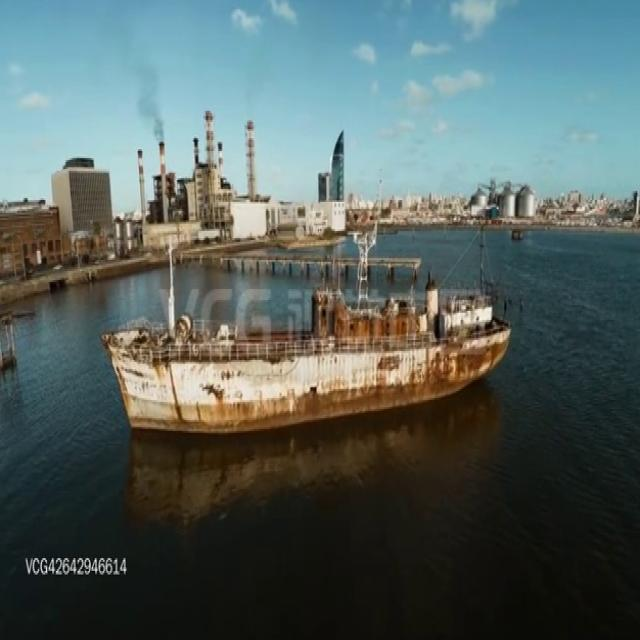cargoship: (108, 242, 511, 434)
